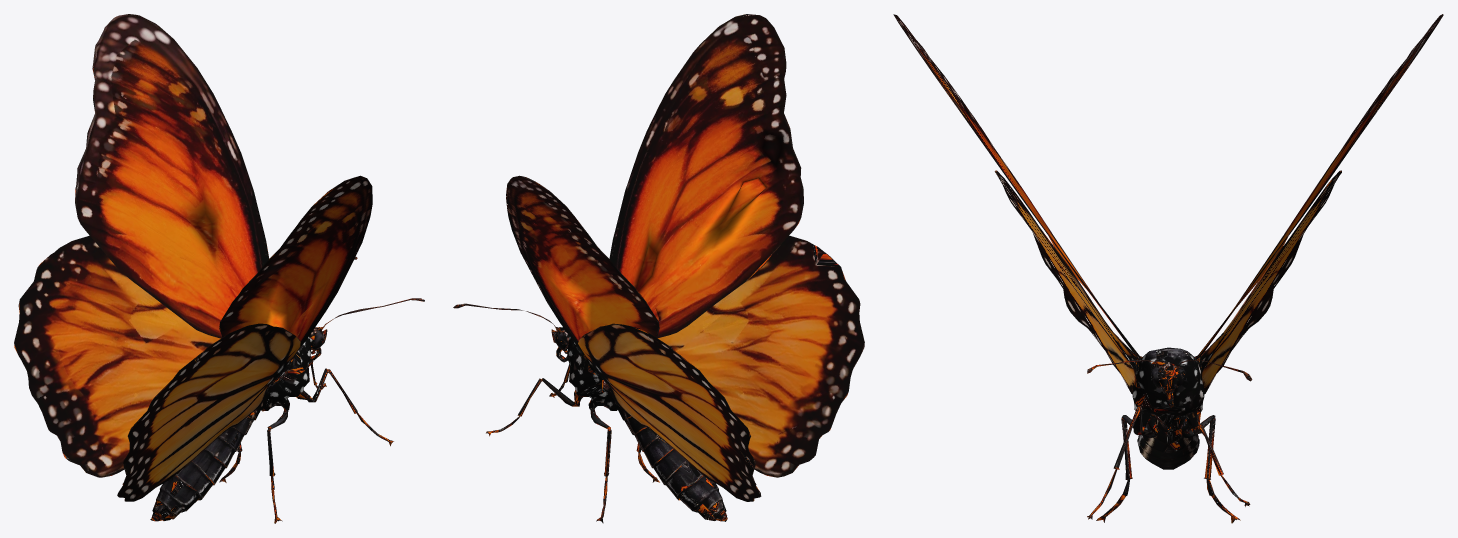
File: butterfly.glb
3 views of the same model, side by side, from view 1: azimuth 30°, elevation 25°; view 2: azimuth 150°, elevation 25°; view 3: azimuth 270°, elevation 25° (orthographic). The views are drawn at different scales.
Visible parts, largest first — view 1: tripo_2ab9b2e0_3ea6_4464_903c_6d9c32157c95; view 2: tripo_2ab9b2e0_3ea6_4464_903c_6d9c32157c95; view 3: tripo_2ab9b2e0_3ea6_4464_903c_6d9c32157c95.
Part boxes in pixels (x1,y1,x2,y2): tripo_2ab9b2e0_3ea6_4464_903c_6d9c32157c95: (14,14,424,523); tripo_2ab9b2e0_3ea6_4464_903c_6d9c32157c95: (453,14,864,523); tripo_2ab9b2e0_3ea6_4464_903c_6d9c32157c95: (893,14,1443,523).
Bounding box in the file's own units: 0.8125 × 0.9951 × 0.9995.
1 material, 1 textured.
